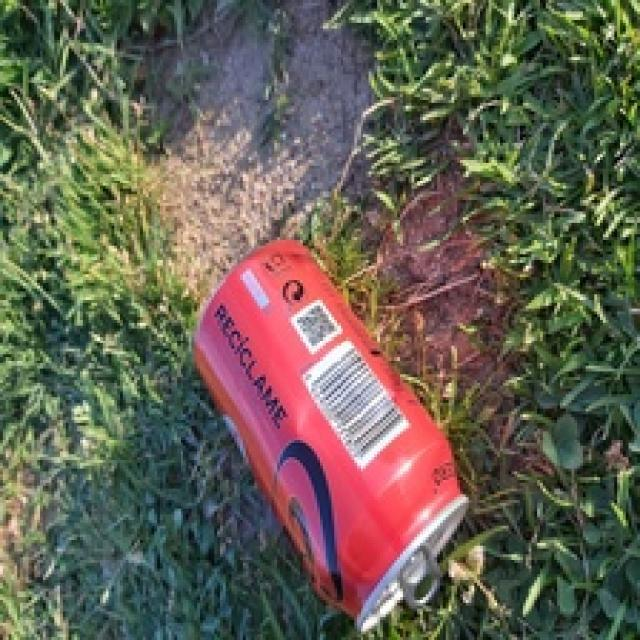recyclable: (188, 237, 469, 635)
